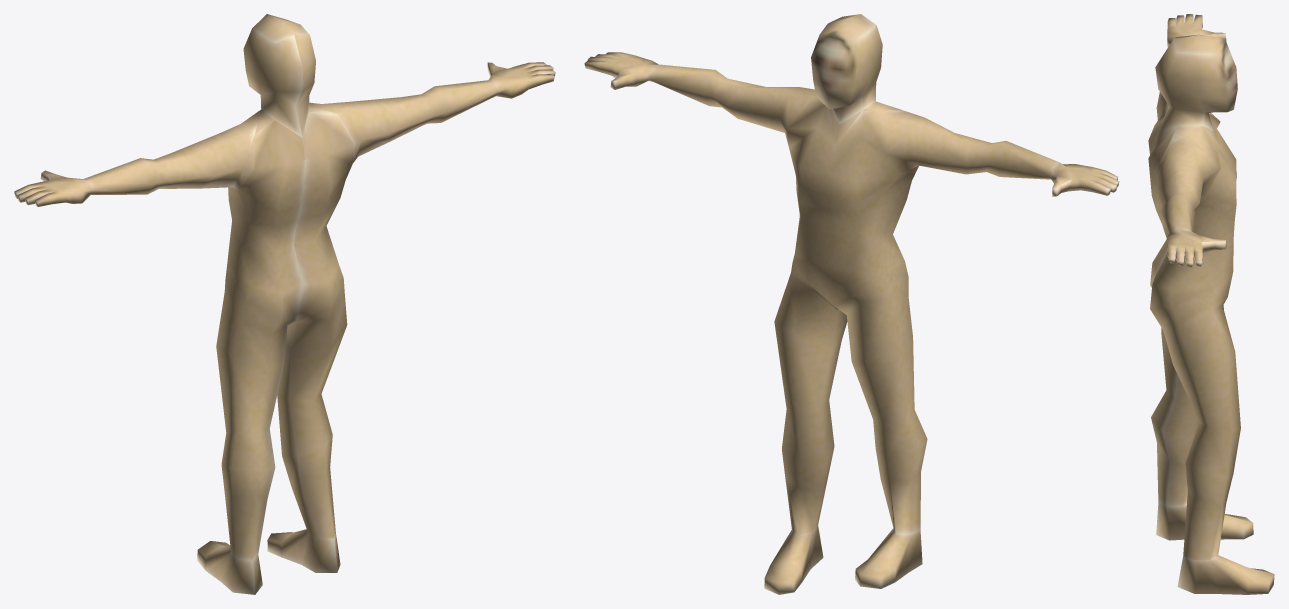
The model's file is human_000010.obj.
3 views of the same model, side by side, from view 1: azimuth 30°, elevation 25°; view 2: azimuth 150°, elevation 25°; view 3: azimuth 270°, elevation 25° (orthographic). The views are drawn at different scales.
Size of the model in its own units: 1.87 by 1.89 by 0.402.
